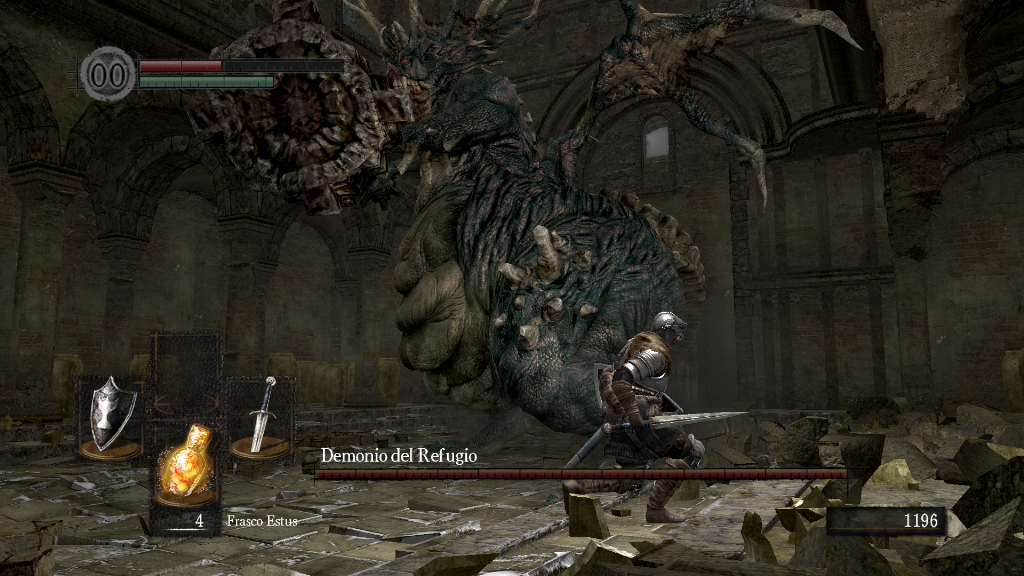asylumDemon: (180, 1, 885, 465)
bossHP: (314, 469, 847, 479)
health: (138, 58, 343, 71)
humanity: (80, 45, 136, 102)
player: (561, 311, 750, 521)
souls: (825, 506, 945, 536)
stamina: (138, 74, 274, 88)
